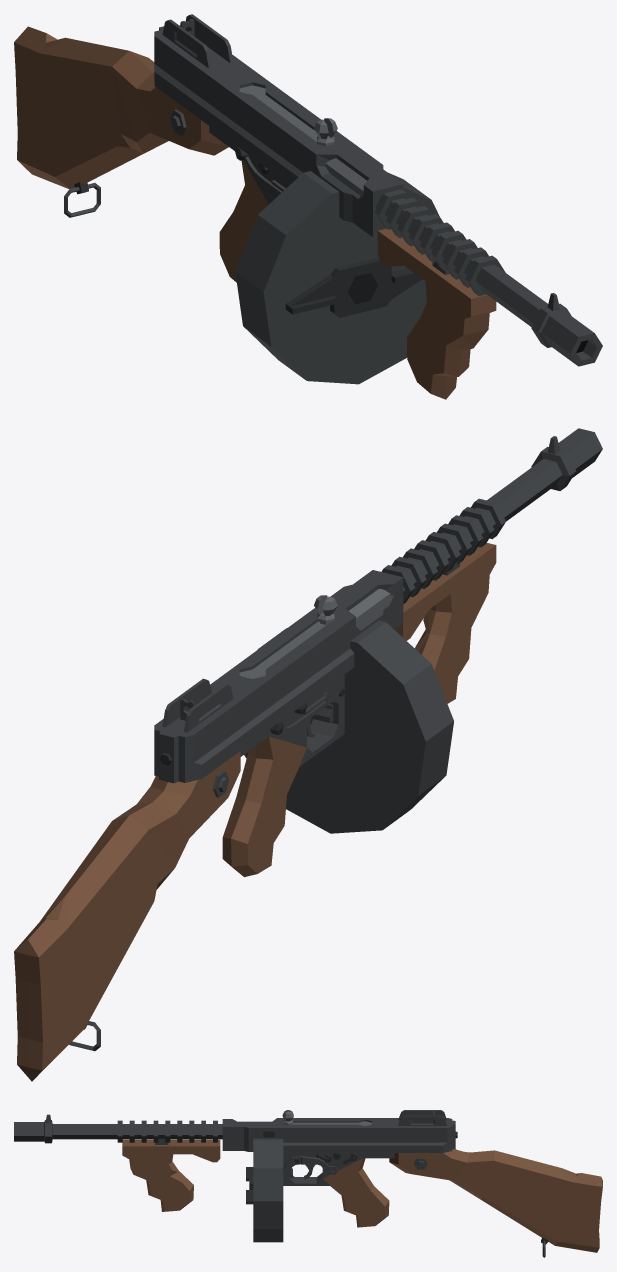
File: Submachine_Gun_01.fbx
3 views of the same model, one above another, from view 1: azimuth 30°, elevation 25°; view 2: azimuth 150°, elevation 25°; view 3: azimuth 270°, elevation 25° (orthographic). The views are drawn at different scales.
Parts seen in each view (by area): view 1: Submachine_Gun_01, Submachine_Gun_01_Mag, Submachine_Gun_01_Trigger.001; view 2: Submachine_Gun_01, Submachine_Gun_01_Mag, Submachine_Gun_01_Trigger.001; view 3: Submachine_Gun_01, Submachine_Gun_01_Mag, Submachine_Gun_01_Trigger.001.
Part boxes in pixels (x1,y1,x2,y2): Submachine_Gun_01: (14, 14, 602, 399); Submachine_Gun_01_Mag: (235, 171, 439, 384); Submachine_Gun_01_Trigger.001: (239, 85, 366, 196); Submachine_Gun_01: (14, 428, 602, 1081); Submachine_Gun_01_Mag: (244, 620, 453, 833); Submachine_Gun_01_Trigger.001: (239, 588, 390, 678); Submachine_Gun_01: (14, 1110, 602, 1257); Submachine_Gun_01_Mag: (246, 1138, 283, 1242); Submachine_Gun_01_Trigger.001: (282, 1110, 371, 1125).
Size of the model in its own units: 0.1678 by 0.2306 by 0.8545.
